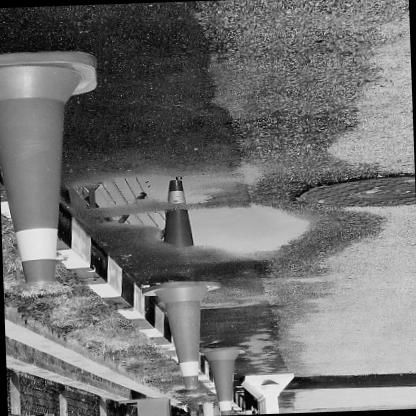manholes: (266, 159, 416, 240)
